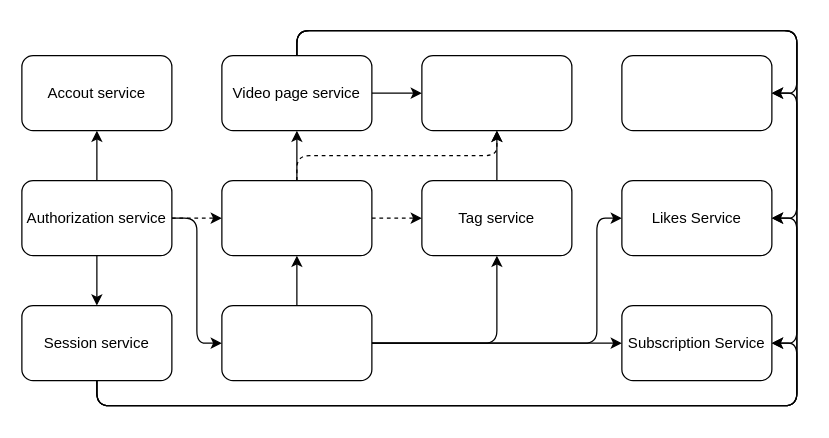
Image size: 829x438. Some labels were removed from this diagram. Each missing label, with the centre of its shape:
"Comment Service" belongs at point (696, 92).
"Media service" belongs at point (496, 92).
"Recomendation service" belongs at point (296, 342).
"Video tape service" belongs at point (296, 217).
